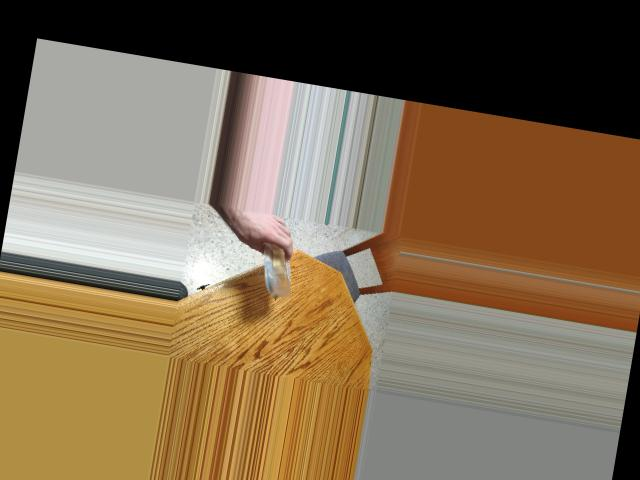cheese: (247, 241, 298, 294)
